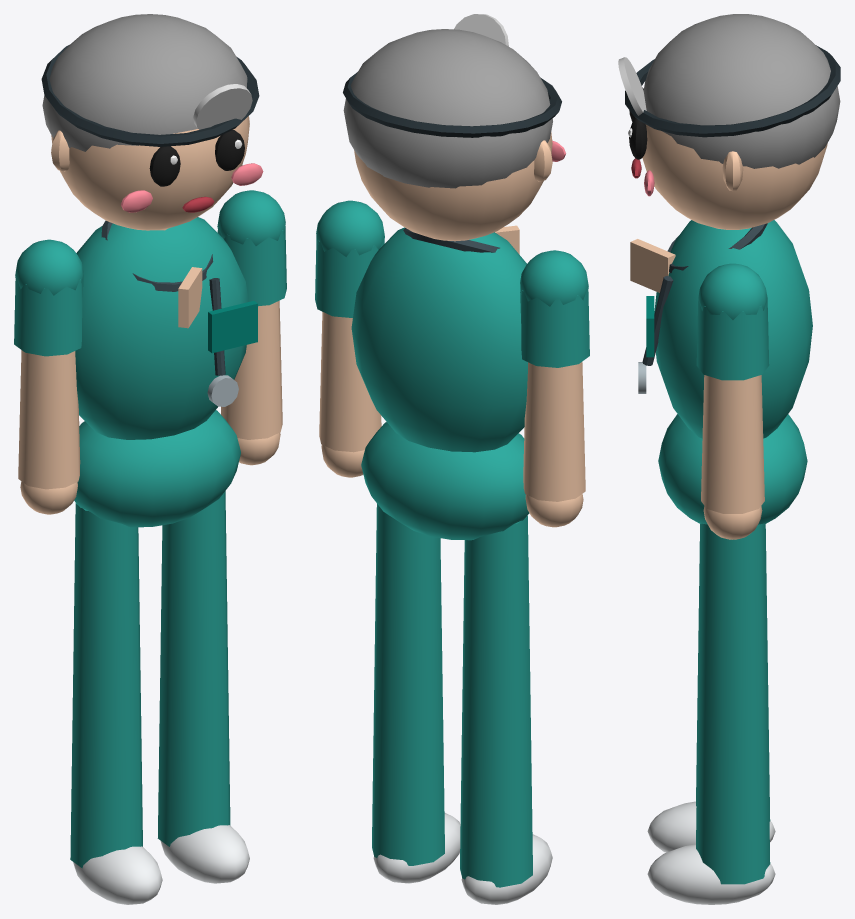
Rendered from cameos_shuey.glb.
The picture shows the model from 3 angles, left to right: view 1: azimuth 30°, elevation 25°; view 2: azimuth 150°, elevation 25°; view 3: azimuth 270°, elevation 25°; orthographic projection.
Parts seen in each view (by area): view 1: Body.008, Leg_R.008, Leg_L.008, Arm_R.008, Arm_L.008, CameosShueyExtra; view 2: Body.008, Leg_R.008, Leg_L.008, Arm_R.008, Arm_L.008, CameosShueyExtra; view 3: Body.008, Leg_L.008, Arm_L.008, CameosShueyExtra, Leg_R.008.
Boxes of the visible parts, bbox=[...] form: Body.008: bbox=[42, 14, 263, 527]; Leg_R.008: bbox=[70, 503, 162, 904]; Leg_L.008: bbox=[157, 491, 249, 883]; Arm_R.008: bbox=[14, 239, 83, 514]; Arm_L.008: bbox=[217, 190, 286, 465]; CameosShueyExtra: bbox=[41, 45, 259, 406]; Body.008: bbox=[343, 29, 565, 540]; Leg_R.008: bbox=[460, 515, 552, 904]; Leg_L.008: bbox=[372, 504, 460, 883]; Arm_R.008: bbox=[520, 250, 589, 527]; Arm_L.008: bbox=[315, 200, 384, 477]; CameosShueyExtra: bbox=[343, 14, 561, 254]; Body.008: bbox=[628, 14, 840, 524]; Leg_L.008: bbox=[647, 523, 775, 904]; Arm_L.008: bbox=[696, 263, 769, 539]; CameosShueyExtra: bbox=[618, 45, 840, 393]; Leg_R.008: bbox=[647, 524, 775, 852].
Bounding box in the file's own units: 0.57 × 1.76 × 0.4173.
